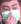with_mask: (1, 1, 21, 24)
